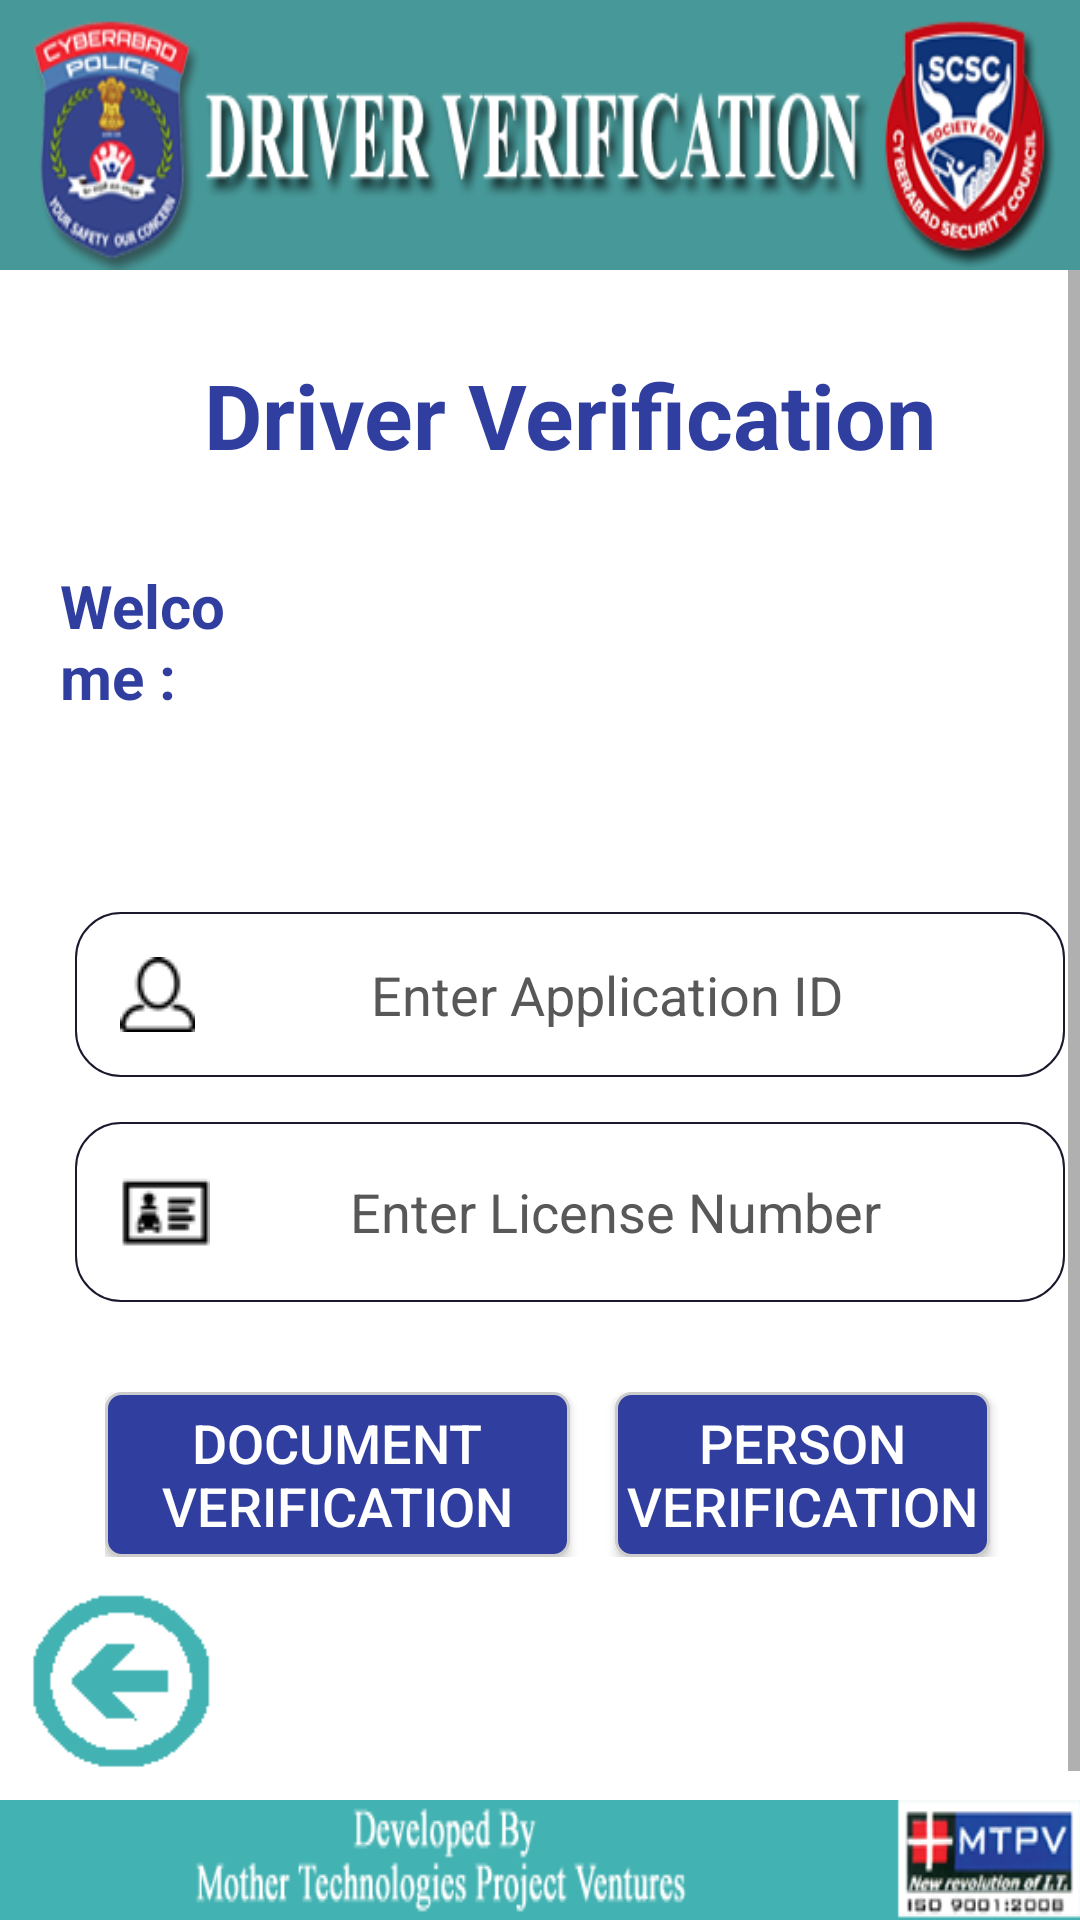

Icons on this 1080w x 1920h Android screen, each with the point to tap as [x,y]:
back arrorw: [121,1681]
